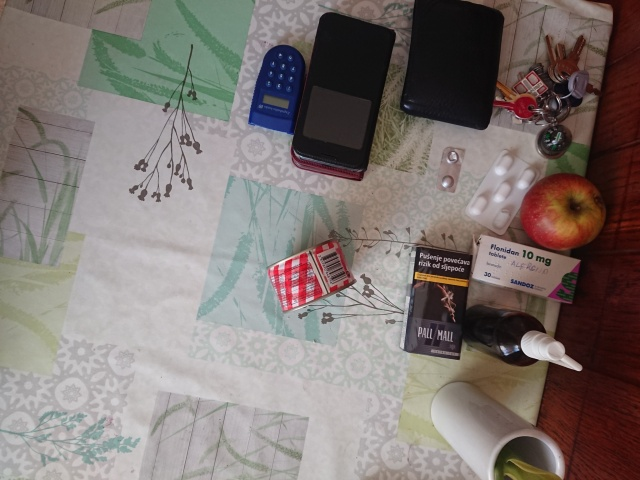Podravka Luncheon Meat 150g: (264, 235, 360, 316)
